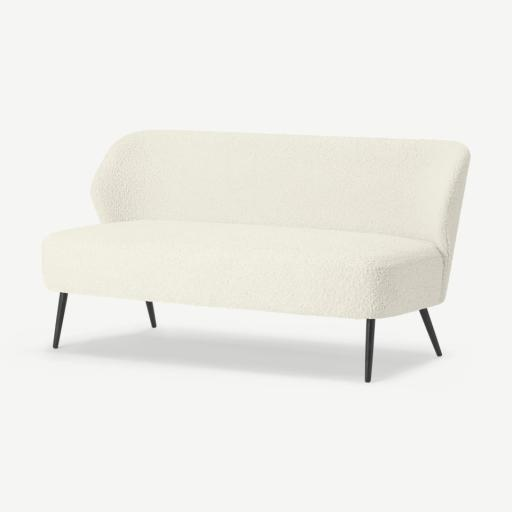back_cushion: (91, 130, 469, 303)
legs: (420, 308, 442, 356), (53, 293, 67, 348), (365, 319, 374, 382), (146, 301, 156, 327)
one-seater: (42, 130, 469, 382)
seat_cushion: (43, 221, 442, 318)
